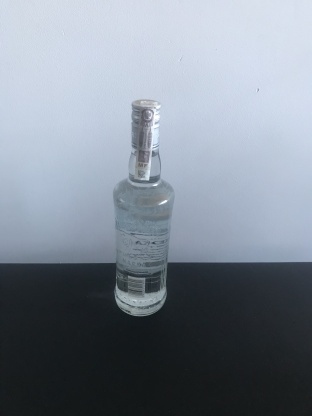nakretka: (128, 95, 164, 149)
